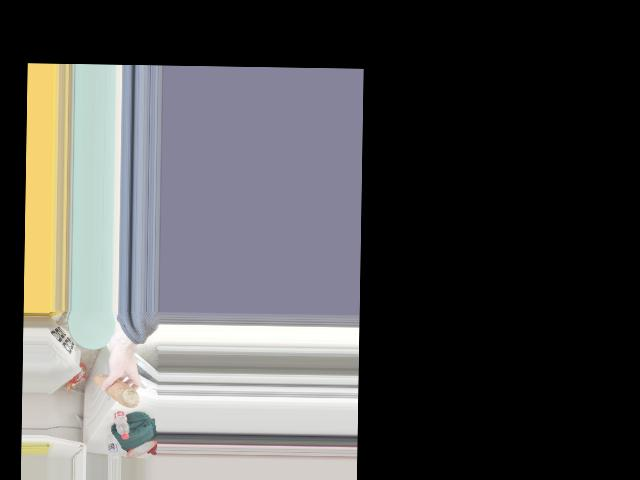sweet_potato: (93, 375, 139, 408)
